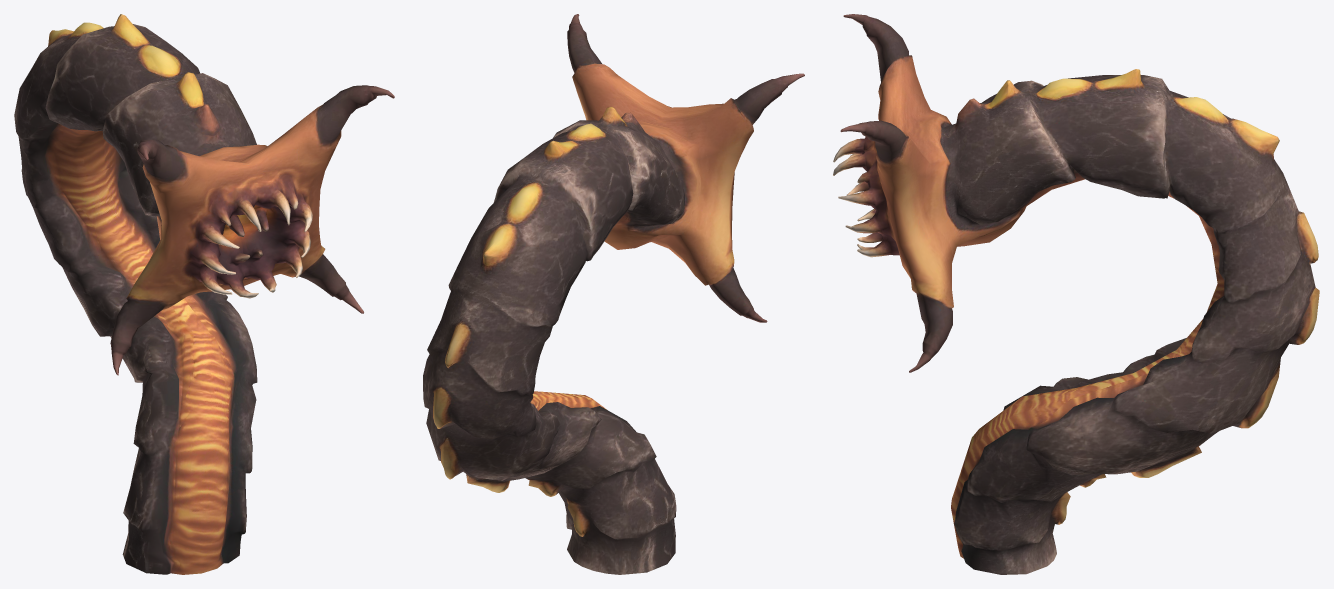
File: selected.glb
3 views of the same model, side by side, from view 1: azimuth 30°, elevation 25°; view 2: azimuth 150°, elevation 25°; view 3: azimuth 270°, elevation 25° (orthographic). The views are drawn at different scales.
Visible parts, largest first — view 1: tripo_node_2a0a6775-a61f-4327-9dbd-59b4e9f2247e; view 2: tripo_node_2a0a6775-a61f-4327-9dbd-59b4e9f2247e; view 3: tripo_node_2a0a6775-a61f-4327-9dbd-59b4e9f2247e.
Part boxes in pixels (x1=…): tripo_node_2a0a6775-a61f-4327-9dbd-59b4e9f2247e: x1=14, y1=14, x2=394, y2=574; tripo_node_2a0a6775-a61f-4327-9dbd-59b4e9f2247e: x1=423, y1=14, x2=804, y2=574; tripo_node_2a0a6775-a61f-4327-9dbd-59b4e9f2247e: x1=833, y1=14, x2=1319, y2=574.
Bounding box in the file's own units: 0.5332 × 0.998 × 0.9043.
Materials: 1 (1 with a texture image).
